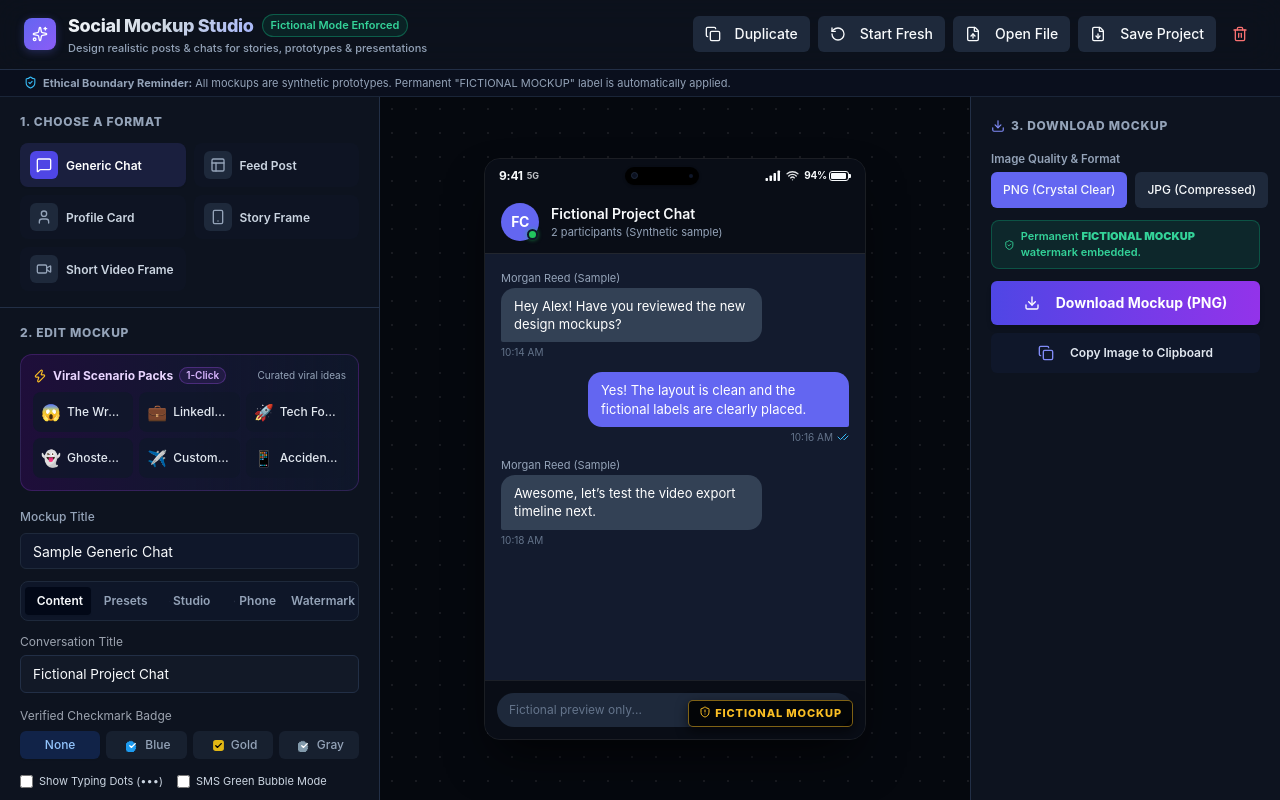
Test case: Social Mockup Studio App › opens styled alert dialog when Delete Project is clicked
Click the button titled "Delete Project & Start Fresh": [1240, 34] box top-left (1224, 18), bottom-right (1256, 50)
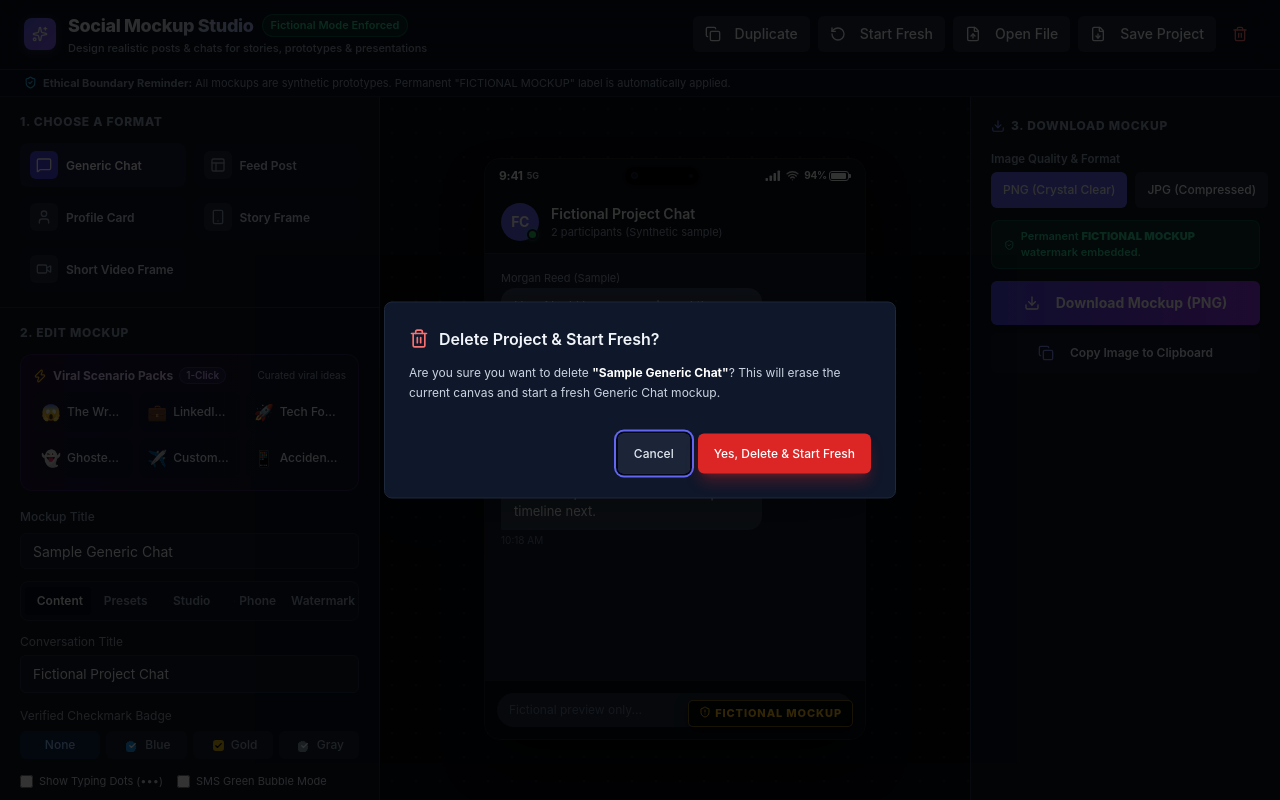
Check: the heading "Delete Project & Start Fresh?" is shown, box top-left (439, 326), bottom-right (659, 350)
Check: the button "Yes, Delete & Start Fresh" is shown, box top-left (698, 434), bottom-right (871, 474)
